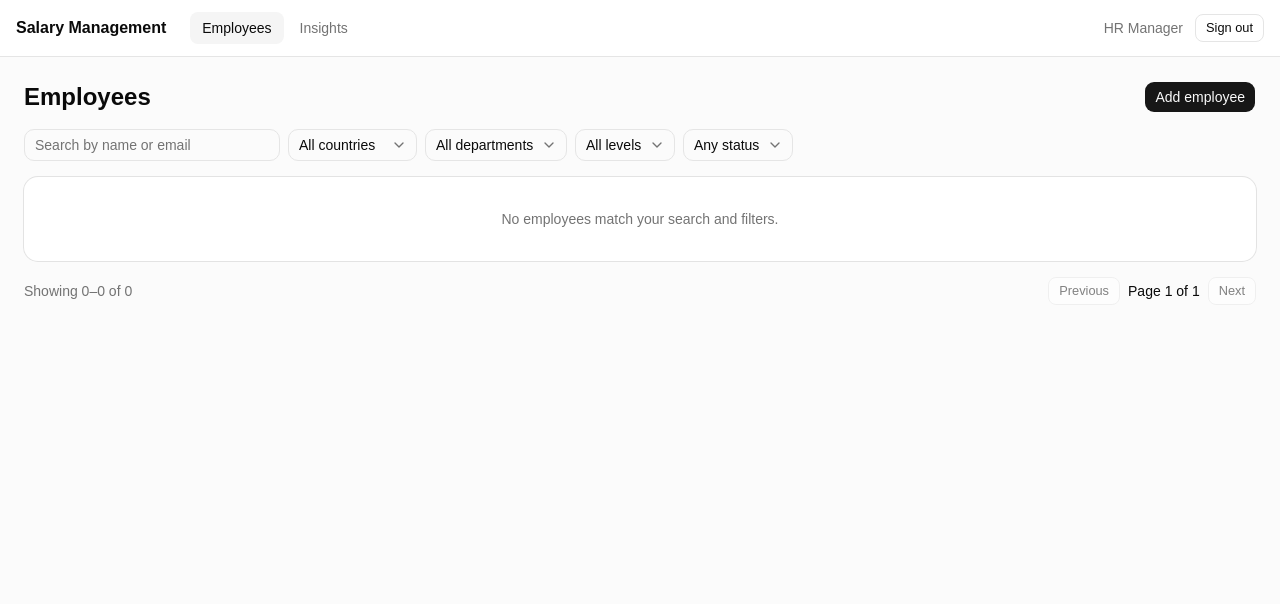
Test: when signed in › returns to the login page after signing out
Click the button "Sign out": (1230, 28) [1195,14,1264,42]
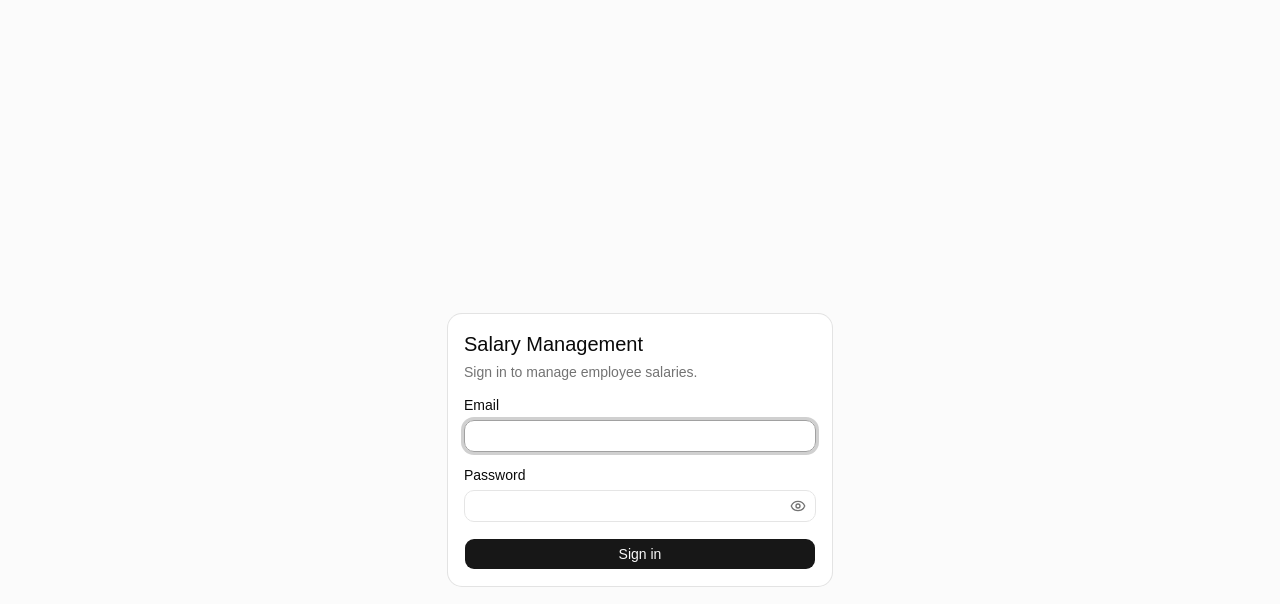
Expected: the button "Sign in" is shown, [464,538,816,570]
